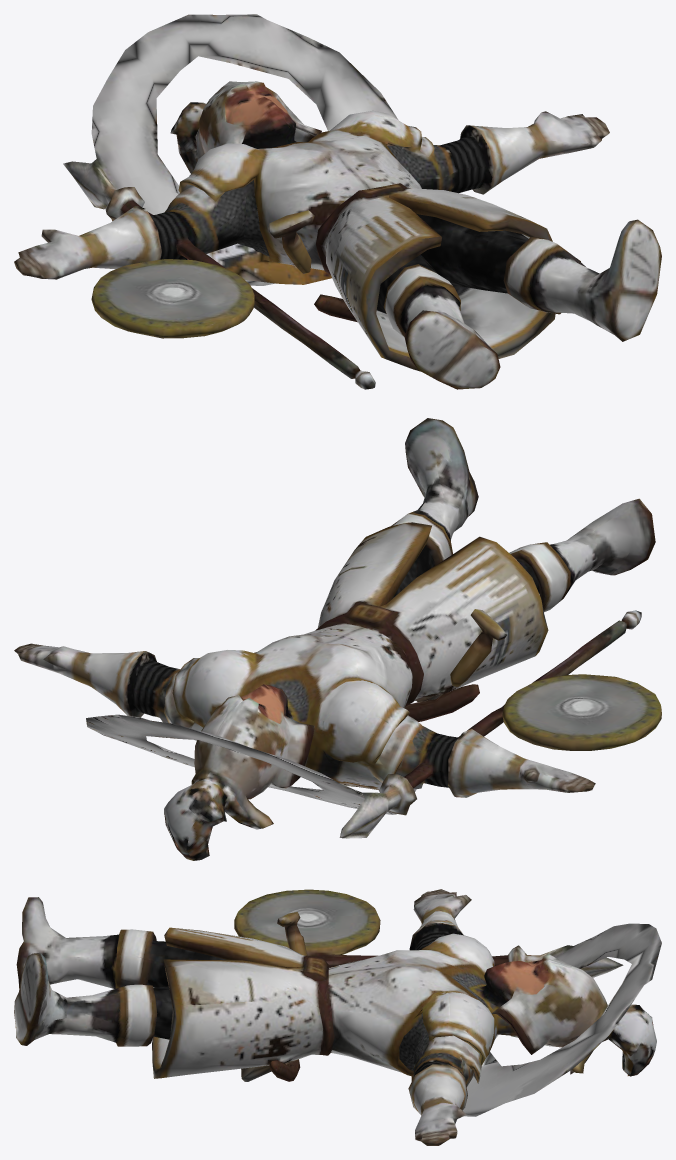
The model's file is spearmen__crown_celestial_host_fallen.glb.
The picture shows the model from 3 angles, top to bottom: view 1: azimuth 30°, elevation 25°; view 2: azimuth 150°, elevation 25°; view 3: azimuth 270°, elevation 25°; orthographic projection. The views are drawn at different scales.
Visible parts, largest first — view 1: world; view 2: world; view 3: world.
Boxes of the visible parts, <box> form: world: <box>14,14,661,389</box>; world: <box>14,418,661,860</box>; world: <box>14,889,661,1145</box>.
Size of the model in its own units: 0.9159 by 0.2946 by 0.997.
Materials: 1 (1 with a texture image).
